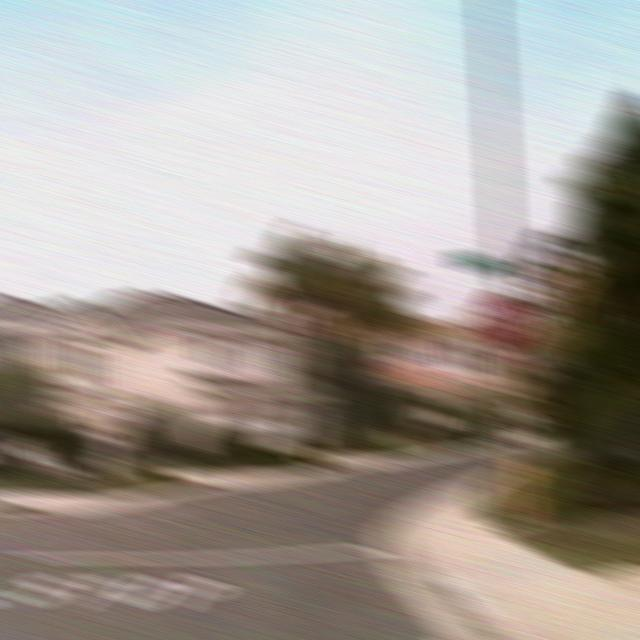stop: (478, 290, 534, 351)
